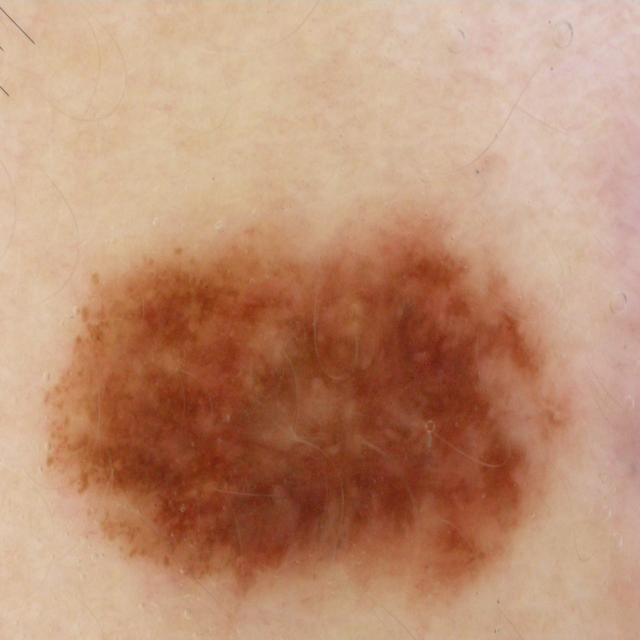Melanoma: (34, 205, 593, 604)
